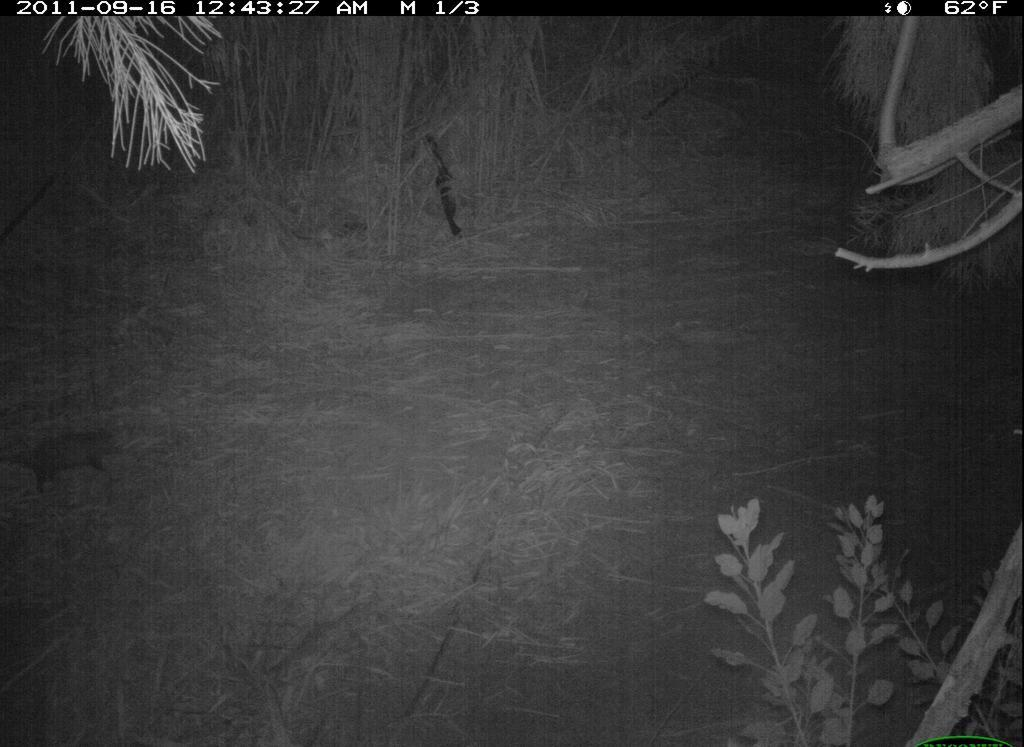opossum: (3, 420, 137, 496)
